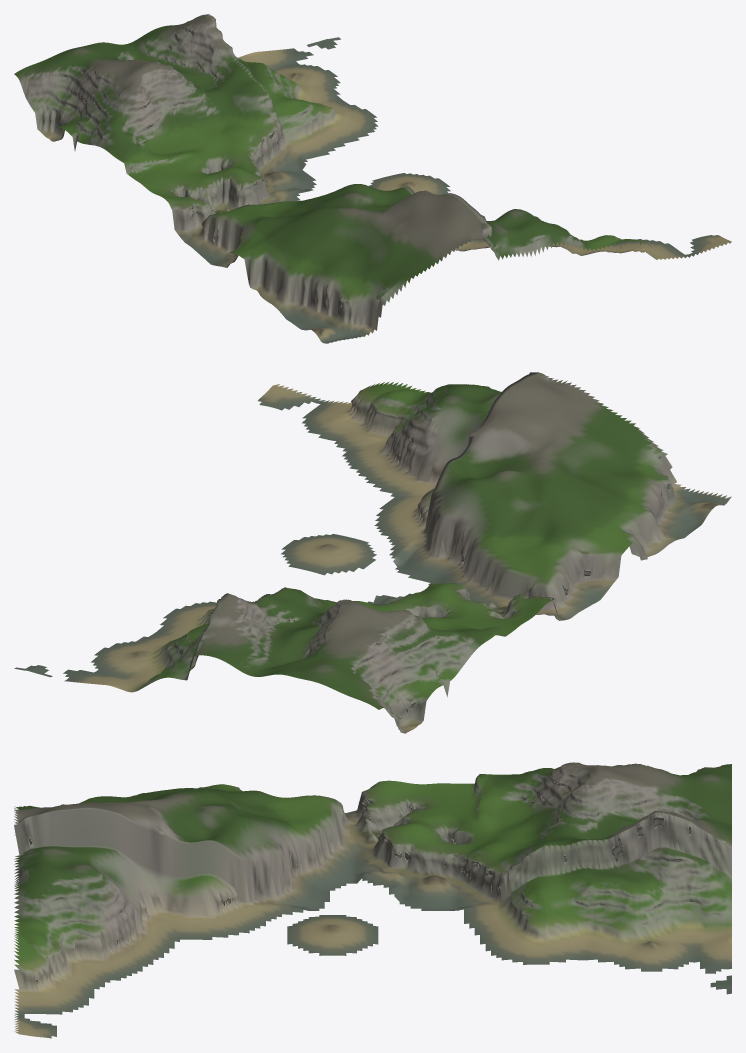
The model's file is coast_tile_x1z1.glb.
3 renders of one model, top to bottom at view 1: azimuth 30°, elevation 25°; view 2: azimuth 150°, elevation 25°; view 3: azimuth 270°, elevation 25°, orthographic. The views are drawn at different scales.
Parts seen in each view (by area): view 1: coast_tile_x1z1; view 2: coast_tile_x1z1; view 3: coast_tile_x1z1.
Boxes of the visible parts, <box> form: coast_tile_x1z1: <box>14,14,731,343</box>; coast_tile_x1z1: <box>14,372,731,733</box>; coast_tile_x1z1: <box>14,762,731,1038</box>.
Bounding box in the file's own units: 602 × 126 × 804.
